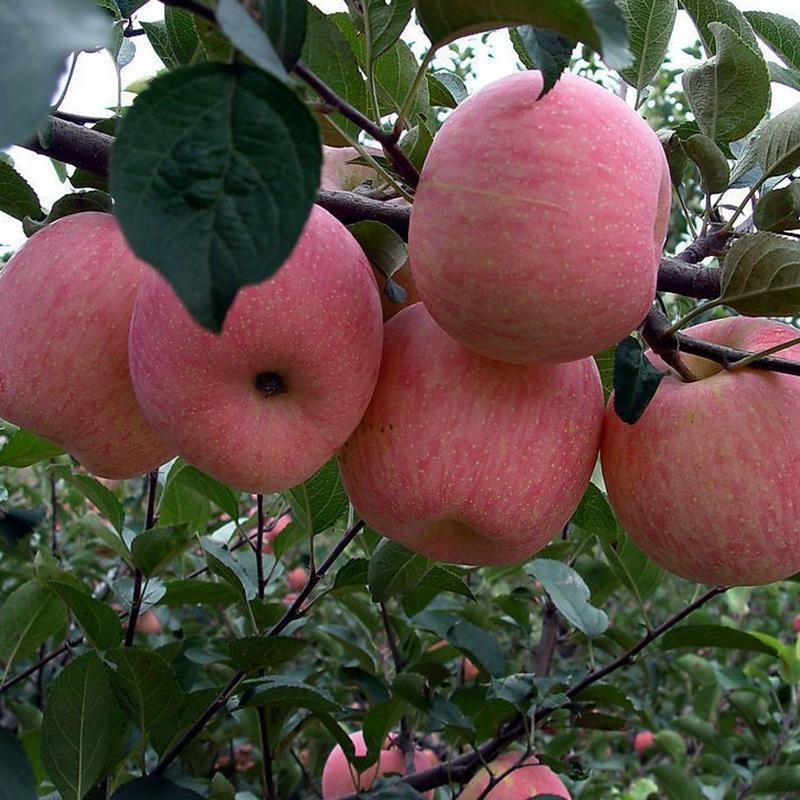apple: (125, 190, 382, 499), (408, 66, 676, 362), (338, 307, 611, 571), (596, 314, 800, 586), (3, 210, 185, 475)
